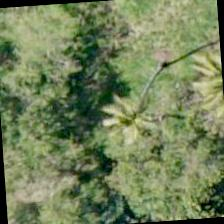Kelapa_Sawit: (92, 71, 188, 167), (171, 52, 223, 147)
